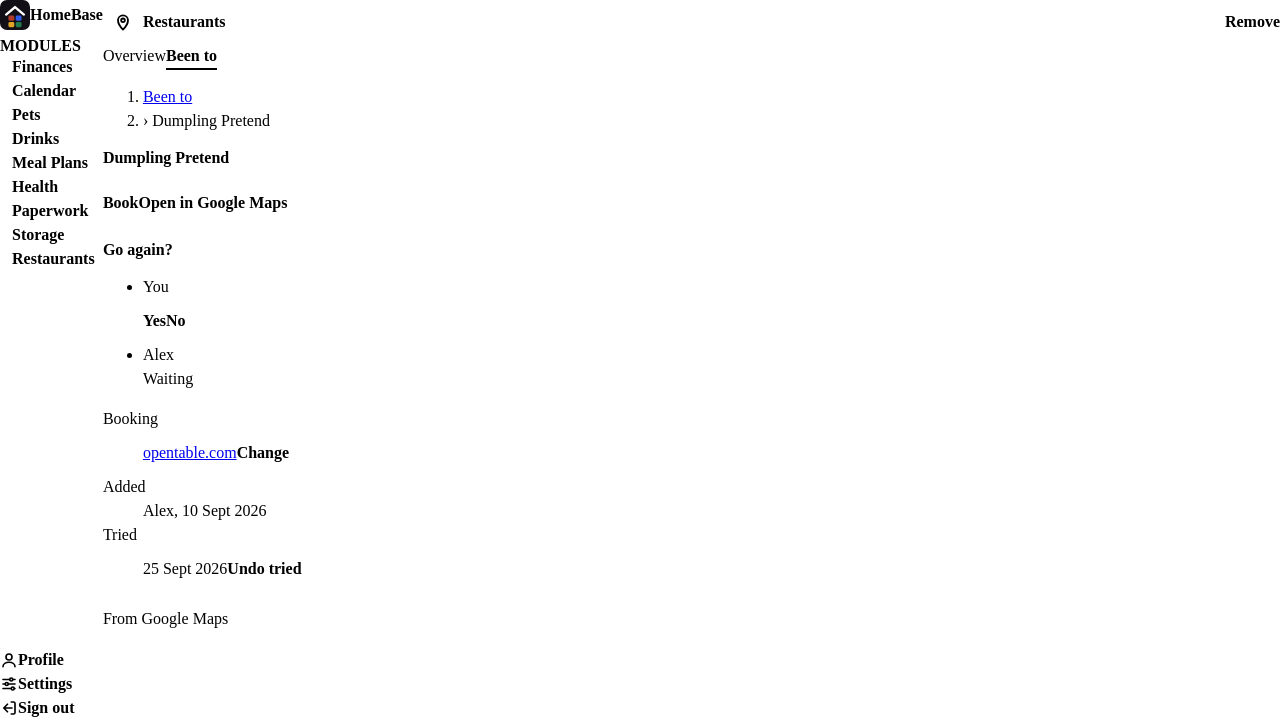
mark as tried and go again (REQ-133) › undoes tried only after a confirm that says both answers go
Click the button "Undo tried": x=264, y=569 x1=227 y1=547 x2=302 y2=591
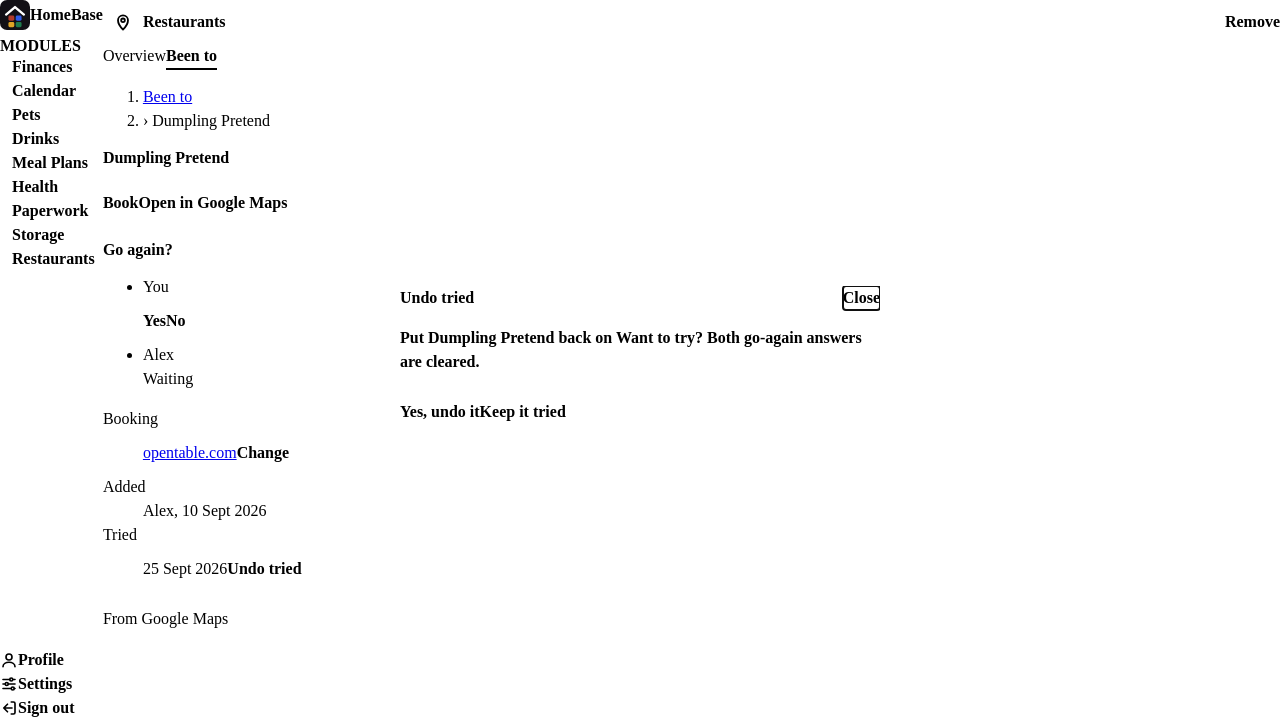
Result: the dialog "Undo tried" shows "Put Dumpling Pretend back on Want to try? Both go-again answers are cleared." at x1=400 y1=286 x2=880 y2=434
Result: the button "Yes, undo it" is shown at x1=400 y1=390 x2=480 y2=434
